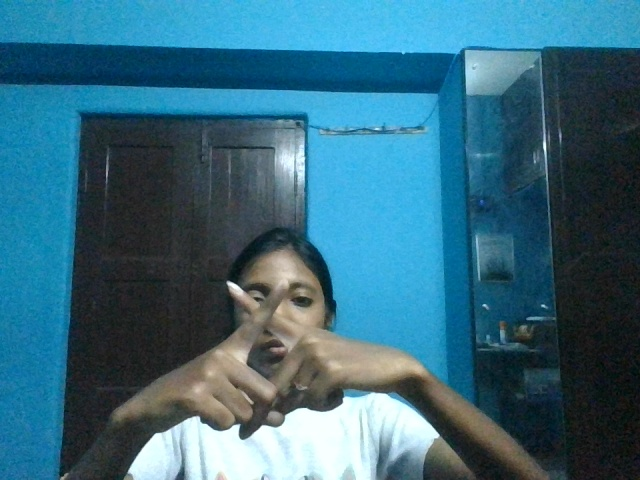X: (204, 260, 349, 366)
